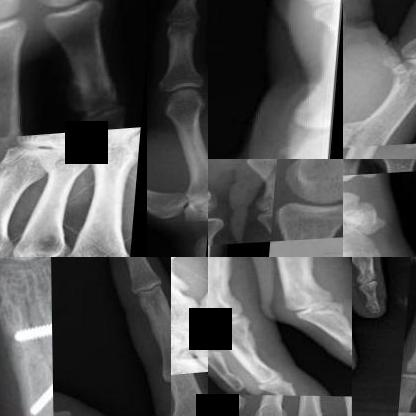fracture: (0, 311, 53, 415), (343, 108, 374, 150), (208, 257, 241, 292), (171, 257, 185, 285)
